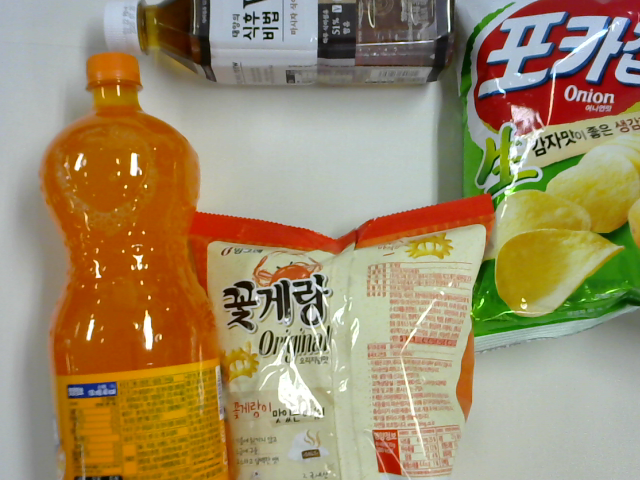Crabrang: (188, 195, 496, 480)
Hwanta_Orange_1.5L: (38, 53, 238, 479)
Pocachip_Onion: (460, 2, 640, 353)
Post-meal_recipe_W_tea_500ml: (103, 1, 458, 89)
